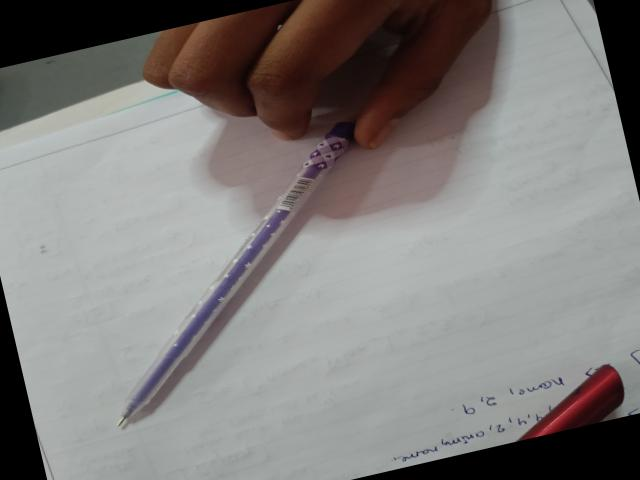PEN: (69, 79, 401, 455), (480, 346, 640, 446), (0, 65, 25, 147)
